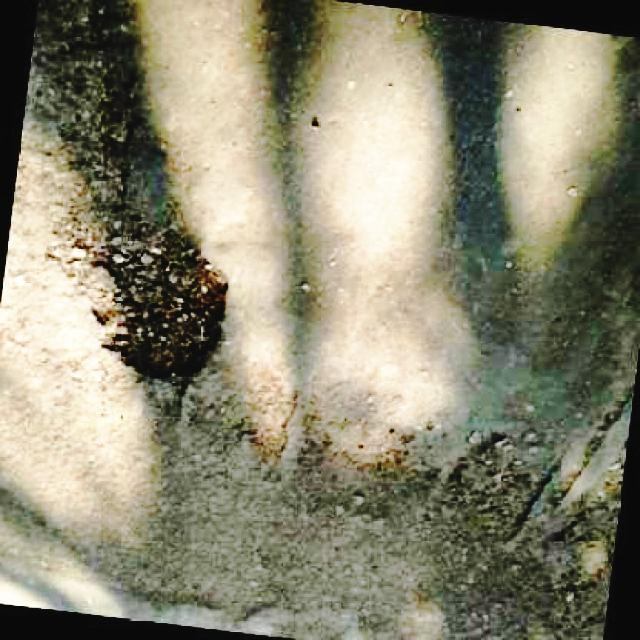pothole: (95, 229, 237, 382)
